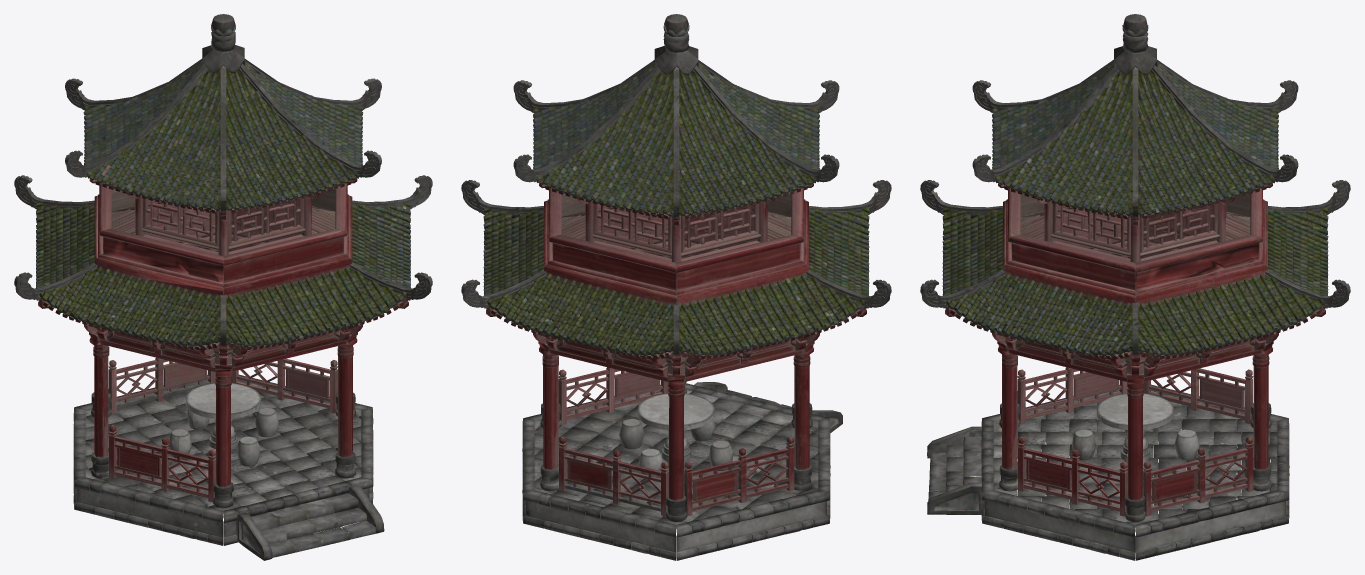
File: chinese-pavilion-mobile.glb
3 renders of one model, left to right at view 1: azimuth 30°, elevation 25°; view 2: azimuth 150°, elevation 25°; view 3: azimuth 270°, elevation 25°, orthographic. The views are drawn at different scales.
Visible parts, largest first — view 1: Chinese_Pavilion_Mesh; view 2: Chinese_Pavilion_Mesh; view 3: Chinese_Pavilion_Mesh.
Boxes of the visible parts, x1,y1,x2,y2 form: Chinese_Pavilion_Mesh: [14, 14, 432, 560]; Chinese_Pavilion_Mesh: [461, 14, 891, 560]; Chinese_Pavilion_Mesh: [920, 14, 1350, 560].
Size of the model in its own units: 7.13 by 7.53 by 6.22.
Materials: 10 (10 with a texture image).
